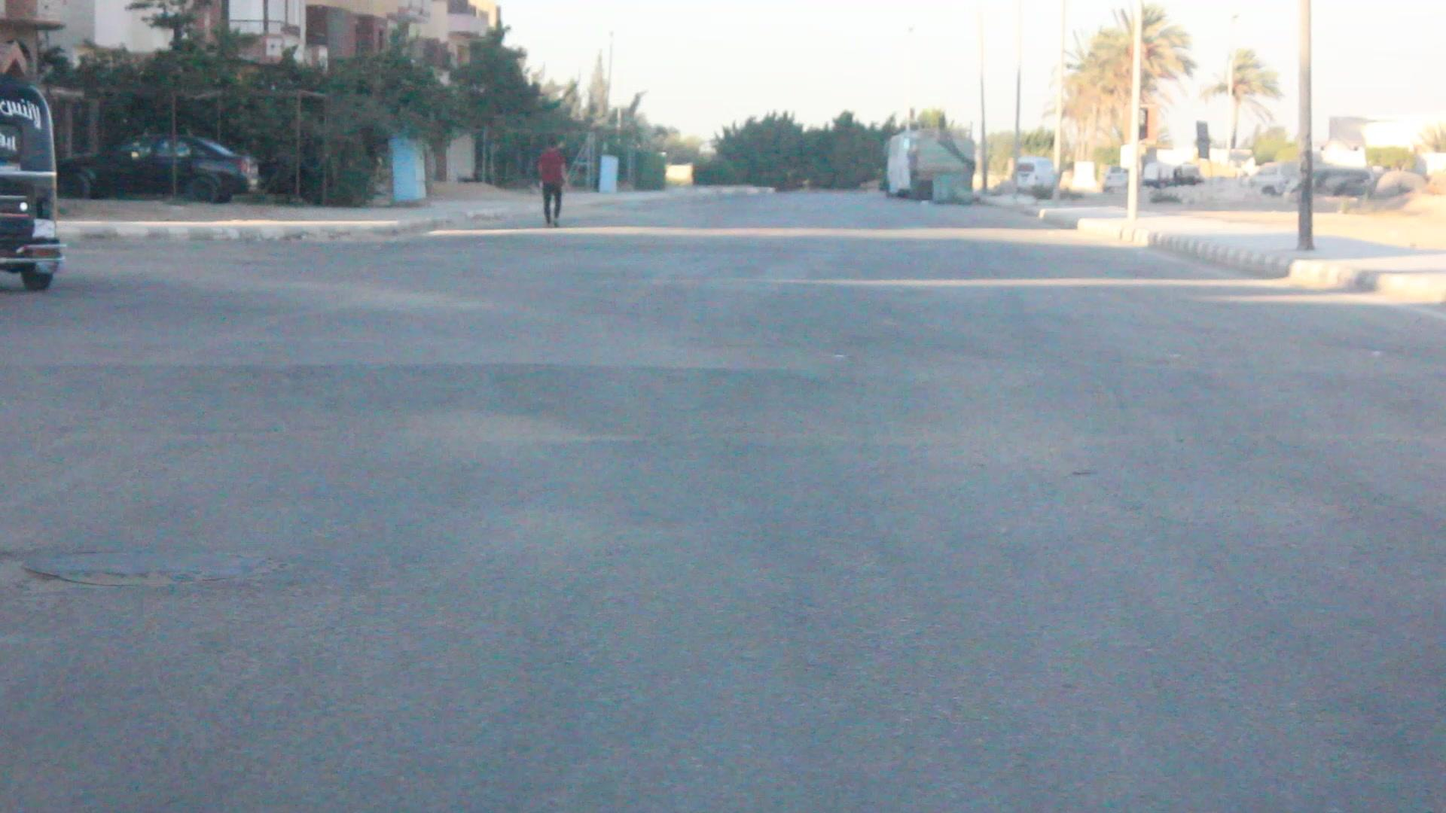Bump: (0, 340, 1444, 439)
